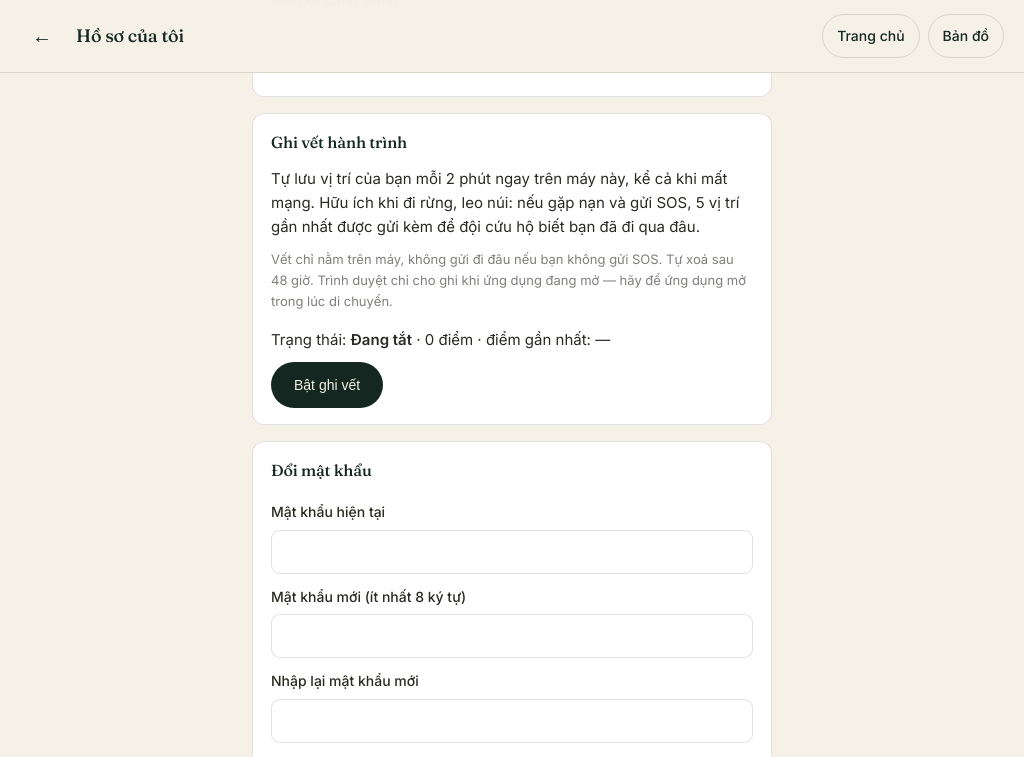
Test: HoSoView — ghi vết hành trình (SRS F-PWA-04) › mặc định tắt; bật thì lấy vị trí ngay và chuyển sang "Đang ghi"
(page scrolled)
Expected: the element with test id "vet-gps" shows "Đang tắt", [351, 330, 412, 349]
Click the button with test id "bat-tat-vet": [327, 385] box [271, 362, 383, 408]
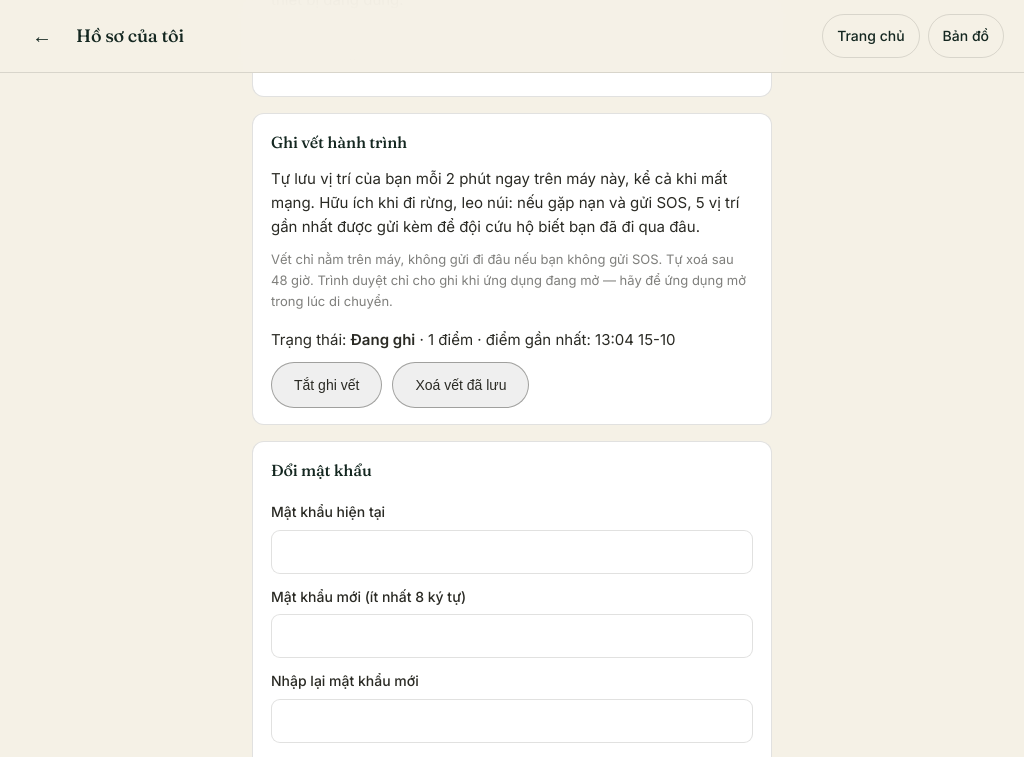
Expected: the element with test id "vet-gps" shows "Đang ghi", [351, 330, 415, 349]
Expected: the element with test id "vet-gps" shows "1 điểm", [415, 330, 676, 349]
